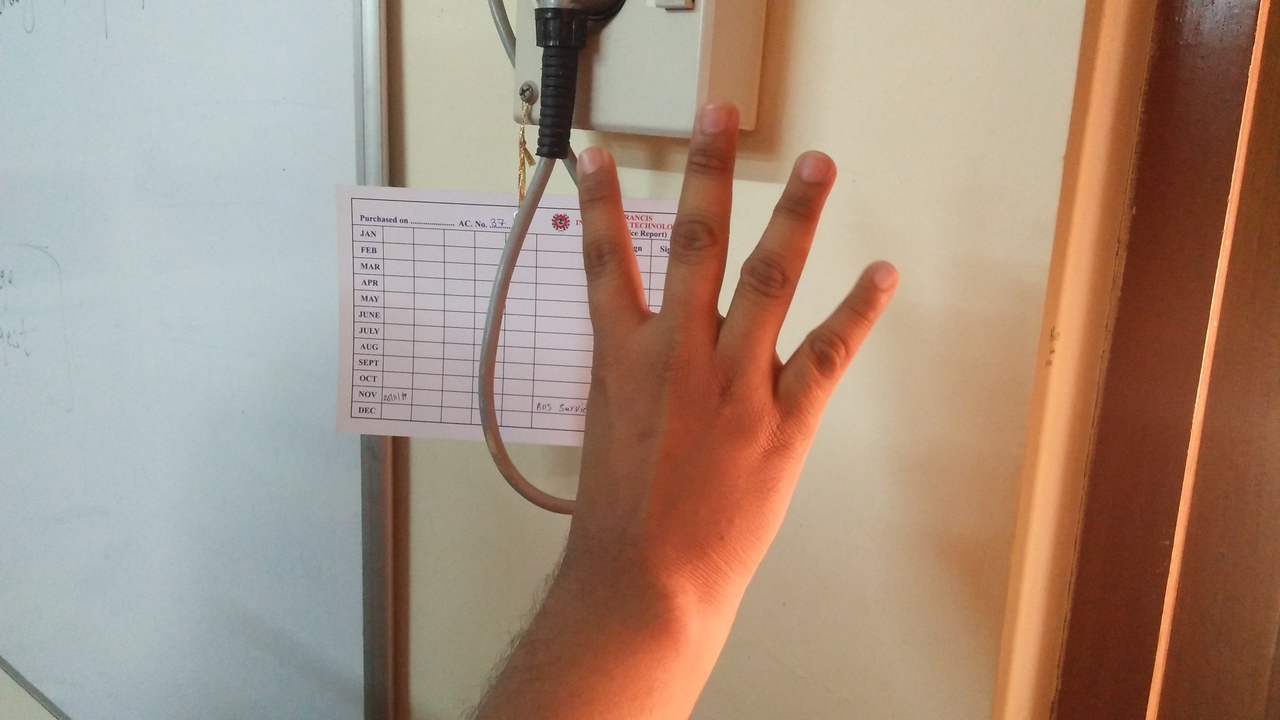fingertip: (844, 250, 912, 304), (780, 142, 844, 196), (568, 134, 626, 186), (690, 92, 754, 138)
